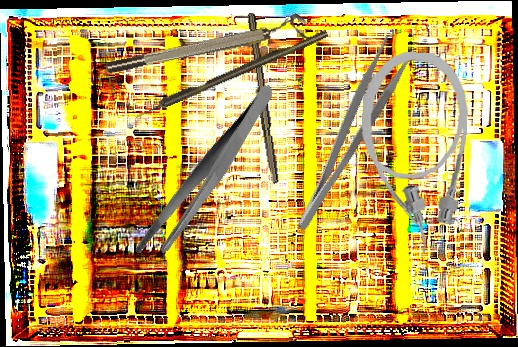Cannula: (355, 49, 471, 256)
Dressing Forceps: (103, 83, 312, 267), (277, 33, 418, 234)
Fixation Ring: (103, 11, 310, 78)
Hook Surgical: (132, 29, 330, 120)
Scalpel Handle: (242, 12, 282, 185)
